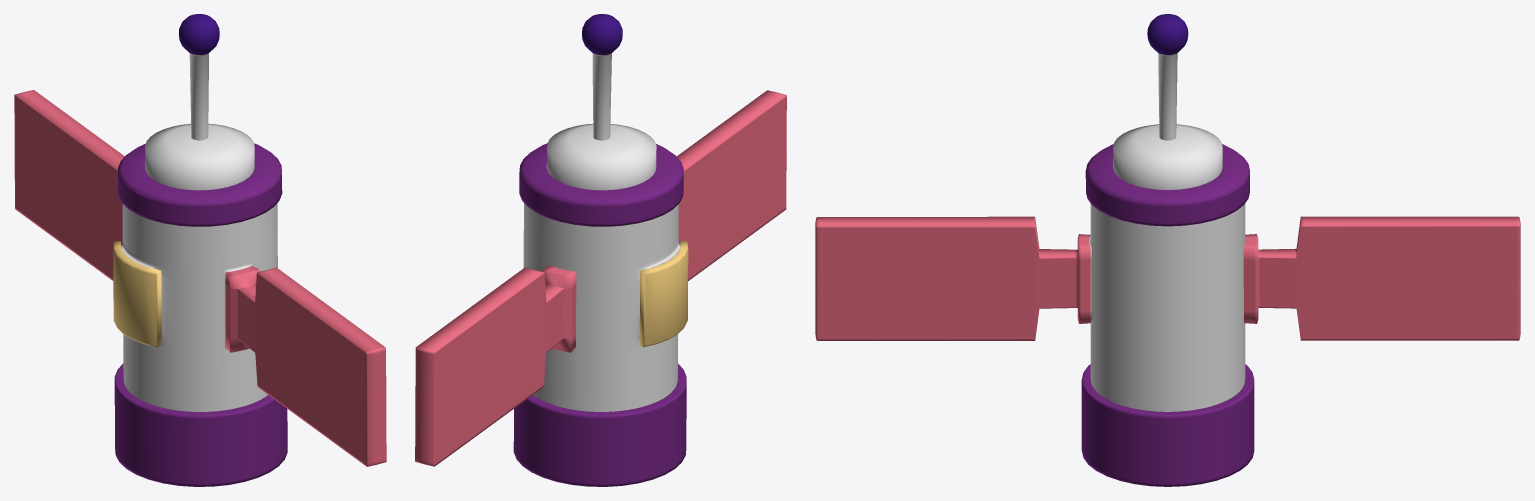
File: satelite.fbx
3 renders of one model, left to right at view 1: azimuth 30°, elevation 25°; view 2: azimuth 150°, elevation 25°; view 3: azimuth 270°, elevation 25°, orthographic.
Visible parts, largest first — view 1: Cylinder.015, Cylinder.001, Cylinder.014, Cylinder.013, Cylinder.012, Cylinder.003, Cylinder.011, Cylinder.010; view 2: Cylinder.015, Cylinder.001, Cylinder.014, Cylinder.013, Cylinder.012, Cylinder.003, Cylinder.011, Cylinder.010; view 3: Cylinder.015, Cylinder.001, Cylinder.014, Cylinder.013, Cylinder.012, Cylinder.011, Cylinder.010.
Boxes of the visible parts, left/top/right/bottom form: Cylinder.015: left=14, top=90, right=386, bottom=466; Cylinder.001: left=121, top=203, right=277, bottom=411; Cylinder.014: left=114, top=363, right=287, bottom=486; Cylinder.013: left=118, top=143, right=282, bottom=226; Cylinder.012: left=145, top=123, right=254, bottom=190; Cylinder.003: left=113, top=241, right=161, bottom=347; Cylinder.011: left=189, top=53, right=208, bottom=140; Cylinder.010: left=178, top=14, right=219, bottom=54; Cylinder.015: left=415, top=90, right=786, bottom=466; Cylinder.001: left=523, top=203, right=680, bottom=411; Cylinder.014: left=513, top=363, right=686, bottom=486; Cylinder.013: left=519, top=143, right=683, bottom=226; Cylinder.012: left=546, top=124, right=656, bottom=190; Cylinder.003: left=639, top=241, right=688, bottom=347; Cylinder.011: left=592, top=53, right=611, bottom=140; Cylinder.010: left=582, top=14, right=622, bottom=54; Cylinder.015: left=815, top=216, right=1520, bottom=340; Cylinder.001: left=1089, top=203, right=1245, bottom=411; Cylinder.014: left=1081, top=364, right=1254, bottom=486; Cylinder.013: left=1085, top=144, right=1249, bottom=226; Cylinder.012: left=1113, top=124, right=1222, bottom=189; Cylinder.011: left=1158, top=52, right=1178, bottom=140; Cylinder.010: left=1147, top=14, right=1188, bottom=54.
Bounding box in the file's own units: 189 × 511 × 753.
